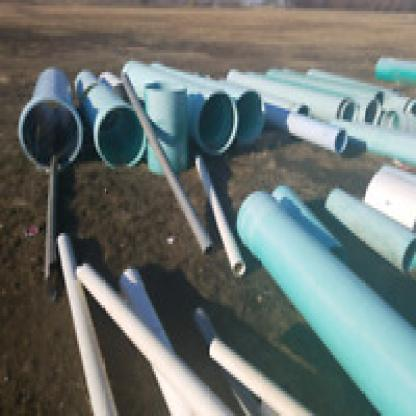PVC: (17, 56, 414, 413)
